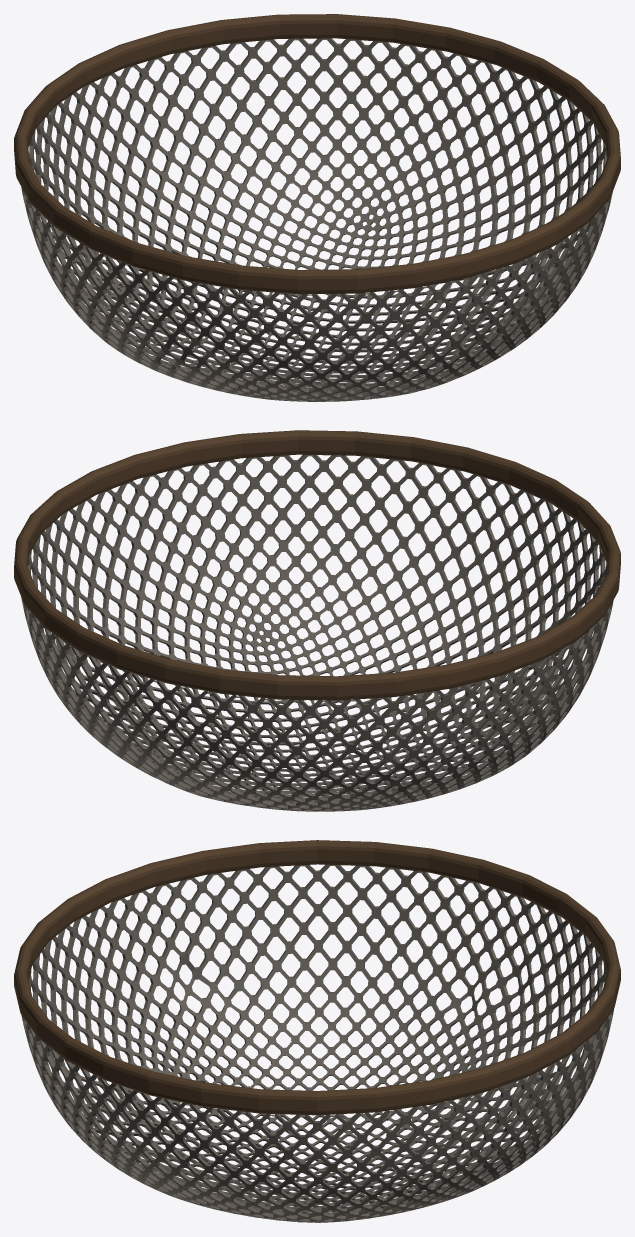
The model's file is sieve.glb.
3 renders of one model, top to bottom at view 1: azimuth 30°, elevation 25°; view 2: azimuth 150°, elevation 25°; view 3: azimuth 270°, elevation 25°, orthographic.
Visible parts, largest first — view 1: Cube.001; view 2: Cube.001; view 3: Cube.001.
Part boxes in pixels (bbox=[...]): Cube.001: bbox=[14, 14, 620, 401]; Cube.001: bbox=[14, 430, 620, 811]; Cube.001: bbox=[14, 840, 620, 1222].
Bounding box in the file's own units: 1.74 × 0.6886 × 1.74.
